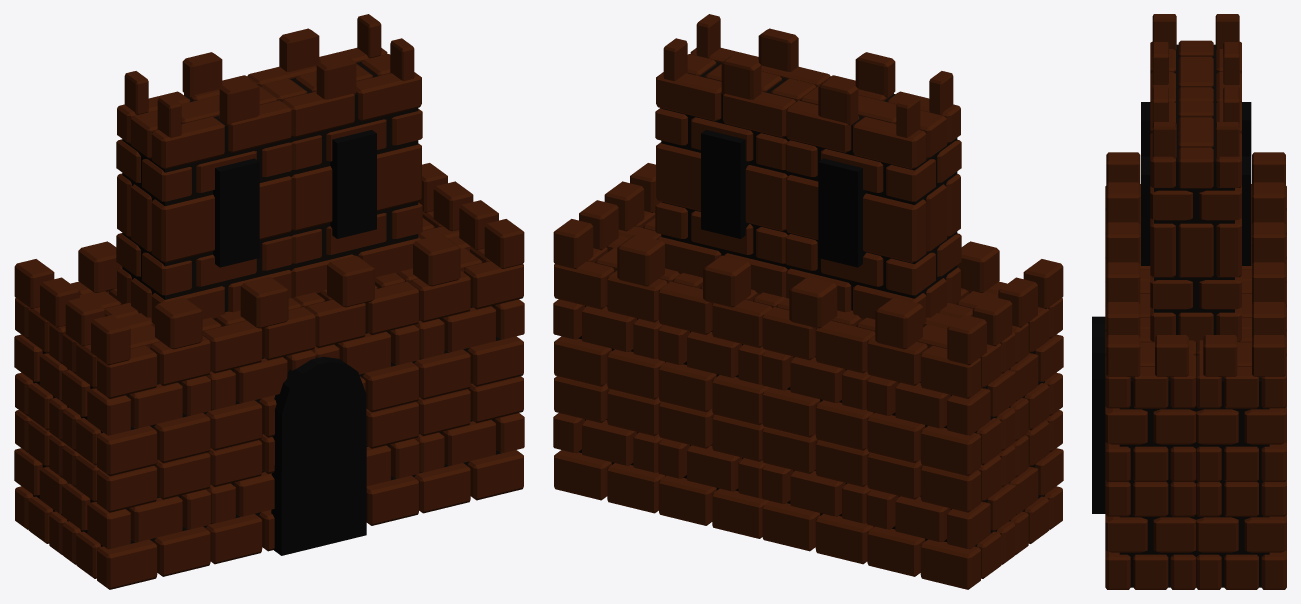
The model's file is Castle_Small.fbx.
The picture shows the model from 3 angles, left to right: view 1: azimuth 30°, elevation 25°; view 2: azimuth 150°, elevation 25°; view 3: azimuth 270°, elevation 25°; orthographic projection. The views are drawn at different scales.
Parts seen in each view (by area): view 1: Castle; view 2: Castle; view 3: Castle.
Part boxes in pixels (bbox=[...]): Castle: bbox=[14, 14, 524, 589]; Castle: bbox=[553, 14, 1063, 589]; Castle: bbox=[1092, 14, 1286, 589].
Bounding box in the file's own units: 4042 × 4121 × 1716.
